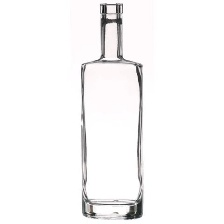bottle: (77, 0, 150, 221)
